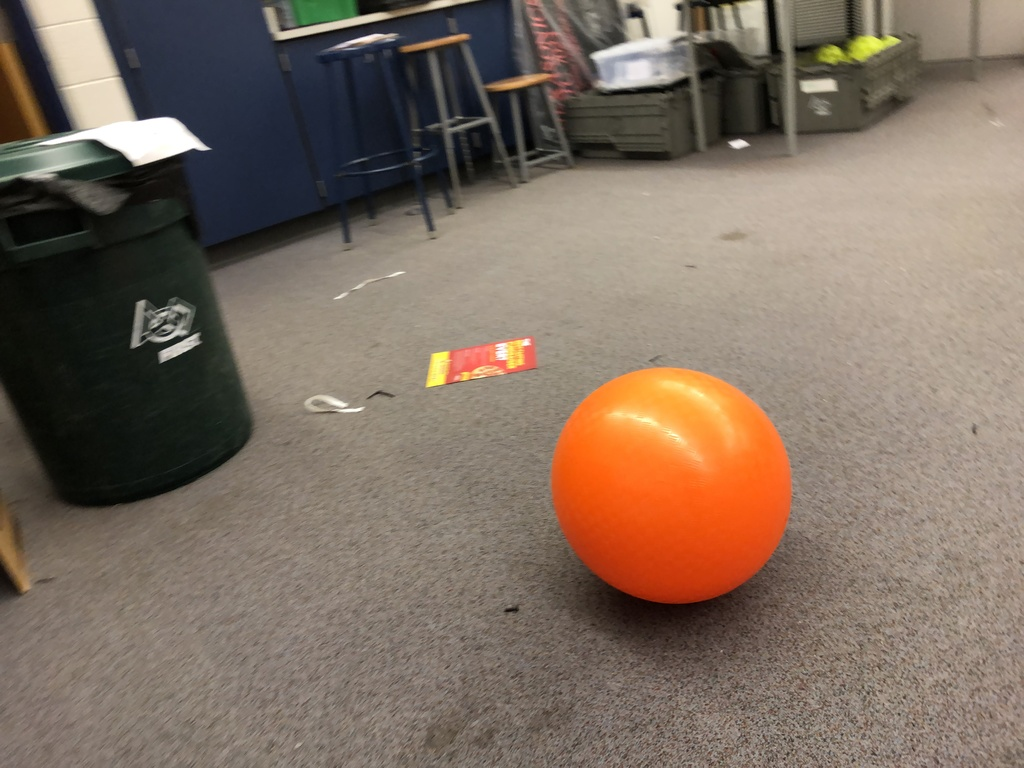cargo: (548, 360, 796, 615)
